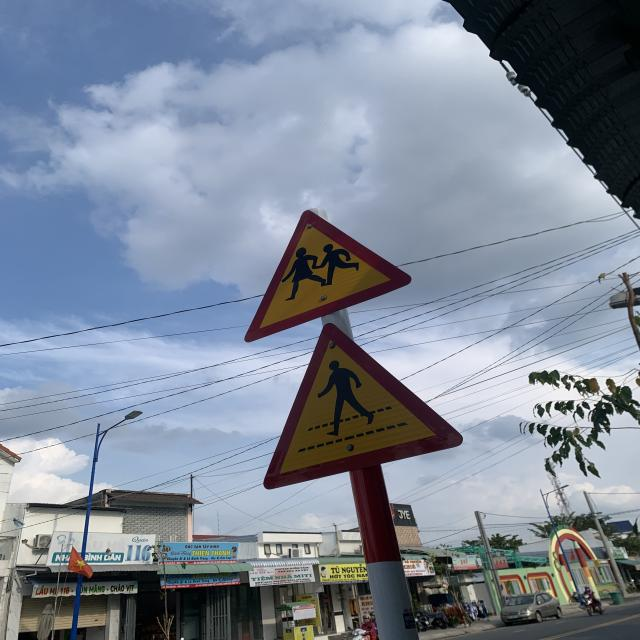Duong_Nguoi_Di_Bo_Sang_Ngang: (264, 322, 464, 484)
Vong_Xuyen: (243, 208, 414, 342)
